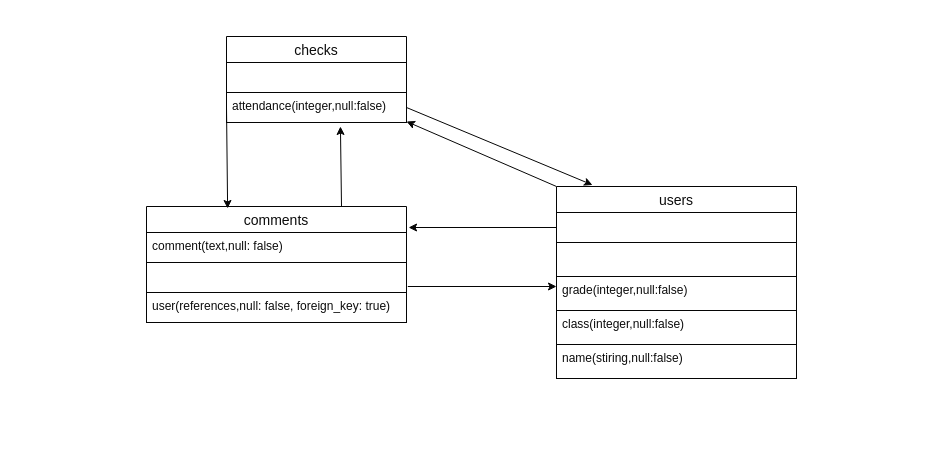
Some shapes in this 933 by 463 pixel diagram are drawn without their labels. Here are the shapes that lost their labels. From the top down, the centre of each, then its label:
(316,77): number(integer,null: false)
(676,227): email(string,null: false, unique: true)
(276,277): event(integer,null: false)
(676,259): encryoted_password(string,null: false)
